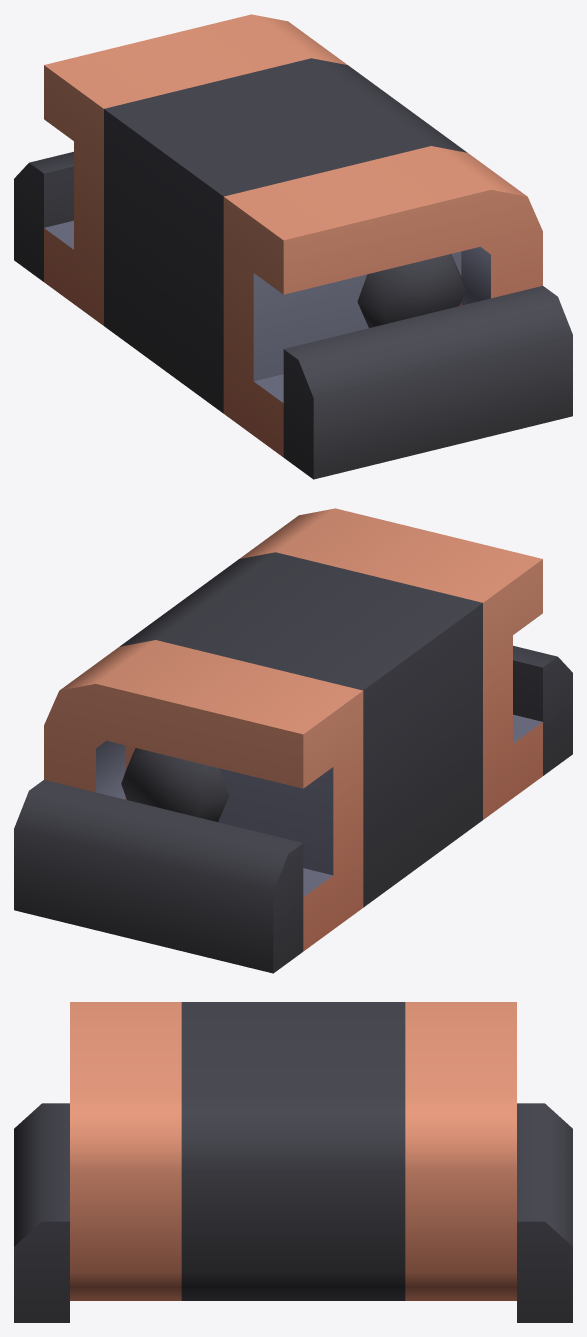
Rendered from conveyor-long-stripe-sides-part-end.obj.
The picture shows the model from 3 angles, top to bottom: view 1: azimuth 30°, elevation 25°; view 2: azimuth 150°, elevation 25°; view 3: azimuth 270°, elevation 25°; orthographic projection. The views are drawn at different scales.
Parts seen in each view (by area): view 1: conveyor-long-stripe-sides-part-end; view 2: conveyor-long-stripe-sides-part-end; view 3: conveyor-long-stripe-sides-part-end.
Boxes of the visible parts, x1,y1,x2,y2 form: conveyor-long-stripe-sides-part-end: [14, 14, 572, 479]; conveyor-long-stripe-sides-part-end: [14, 508, 572, 973]; conveyor-long-stripe-sides-part-end: [14, 1002, 572, 1322].
Bounding box in the file's own units: 0.5 × 0.4 × 1.
